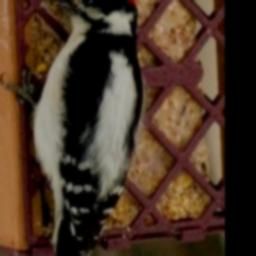Woodpecker: (1, 0, 142, 256)
